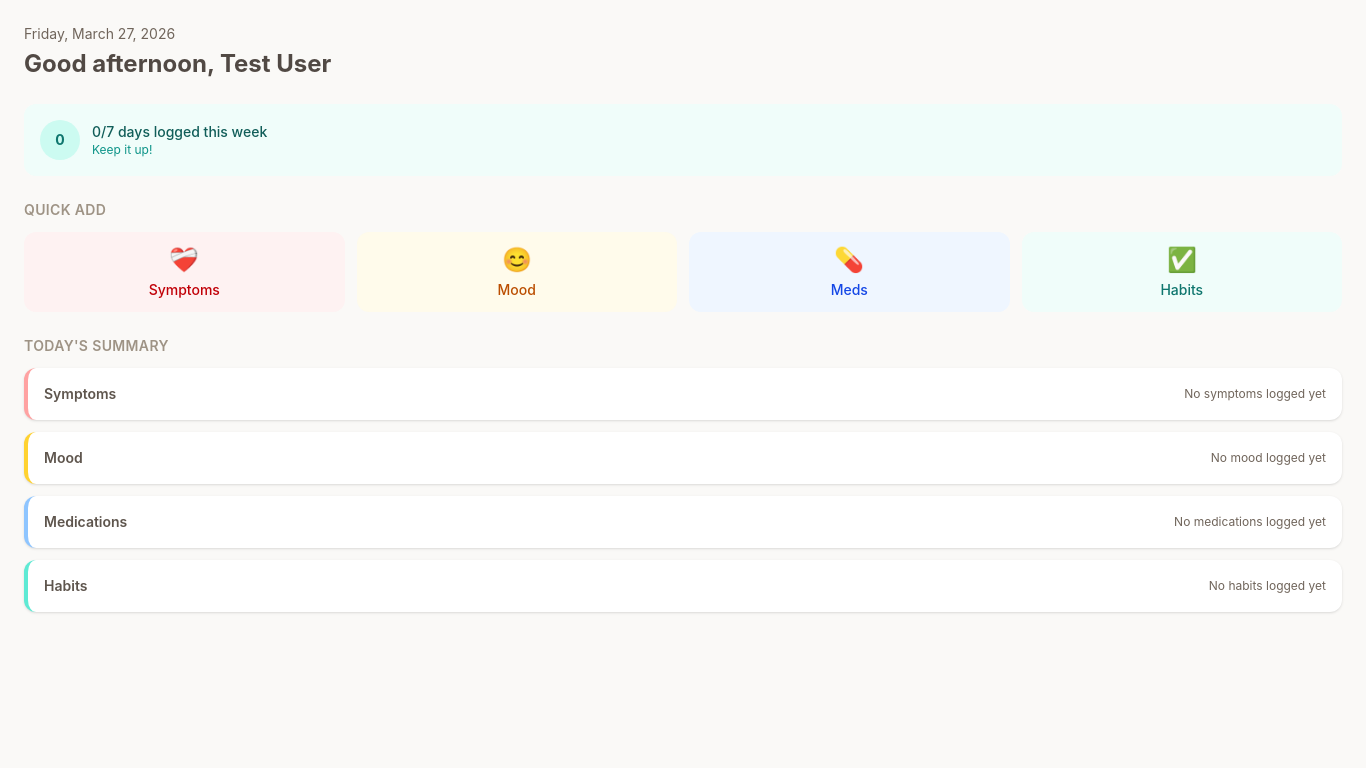
Scenario: DashboardPage › opens mood log modal when quick-add button is clicked
This screenshot has width=1366, height=768.
Expected: the text "Mood" is shown, [498, 280, 536, 300]
Click the button "😊 Mood" at (517, 272), box [356, 232, 677, 312]
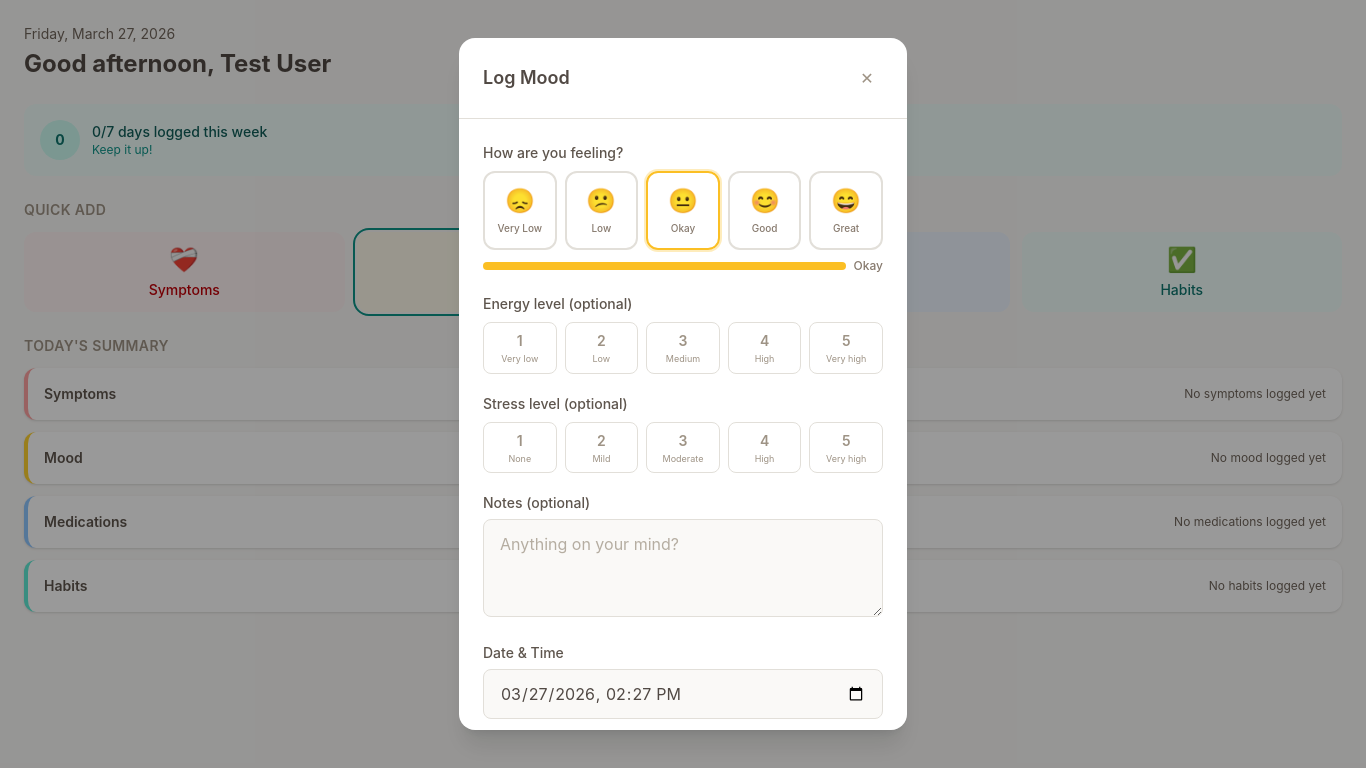
Now the heading "Log Mood" is shown, box [483, 64, 570, 92]
